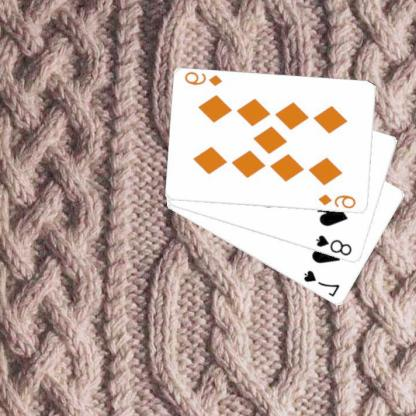7S: (303, 268, 343, 298)
8S: (315, 233, 355, 258)
9D: (184, 70, 226, 88), (318, 192, 359, 209)
